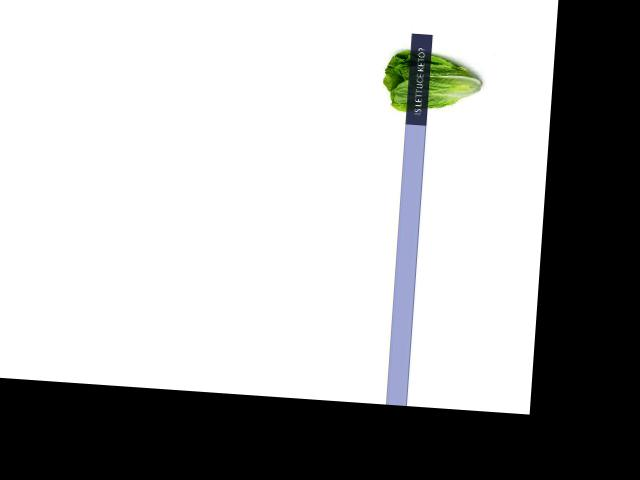lettuce: (381, 43, 493, 119)
